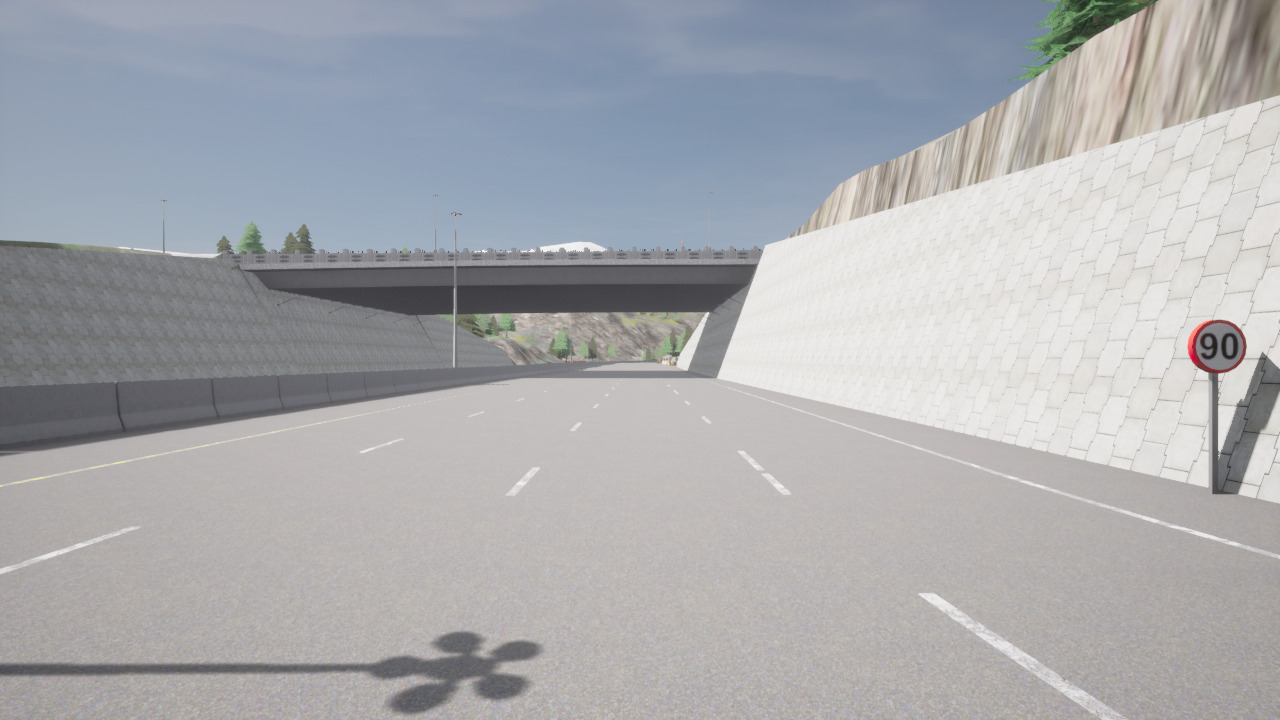sl90: (1186, 318, 1249, 375)
